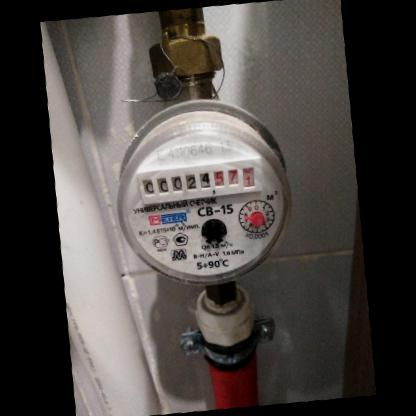digital_screen: (134, 160, 213, 205)
